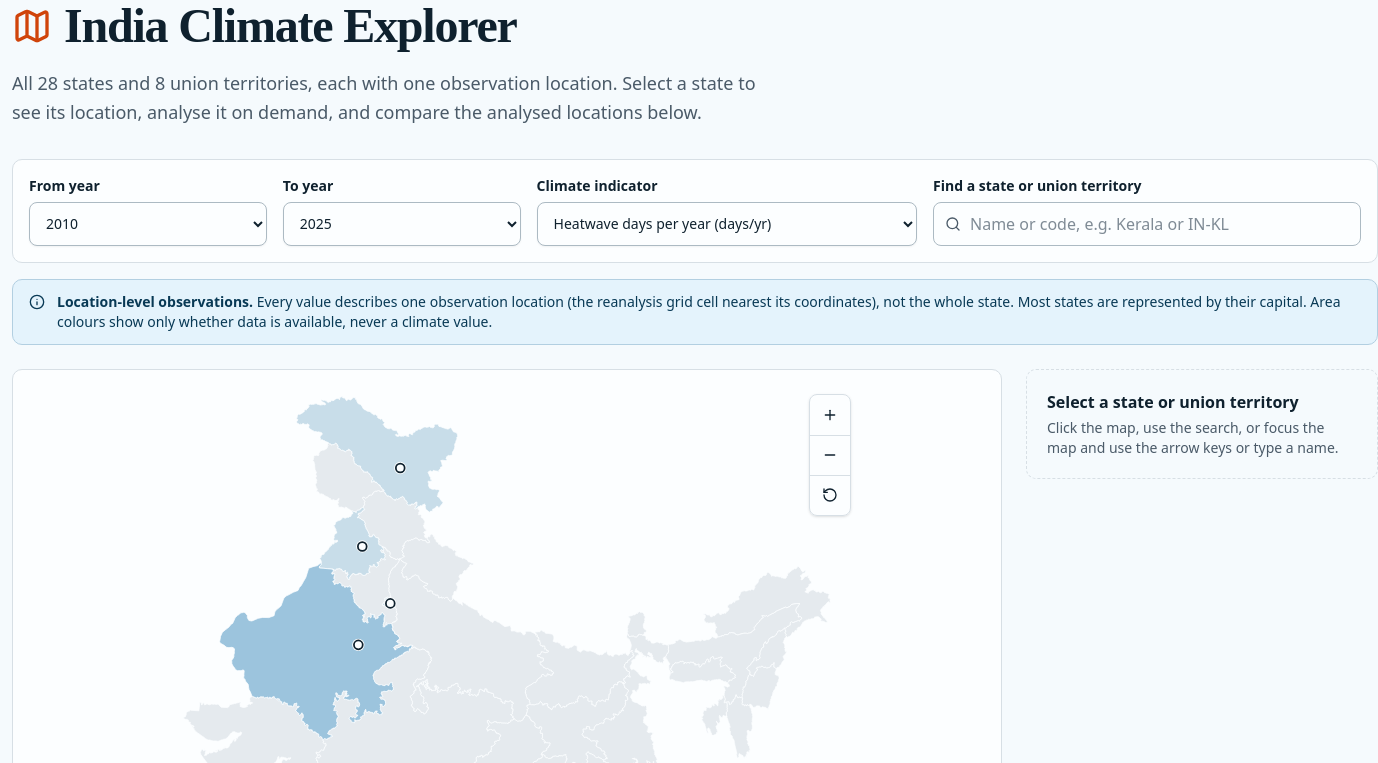
Test: India Climate Explorer › analyses on demand, then colours the marker and fills the summary
The image size is (1378, 763).
In the dropdown labelled "Find a state or union territory": (1147, 224) [933,202,1361,246], type "IN-RJ"
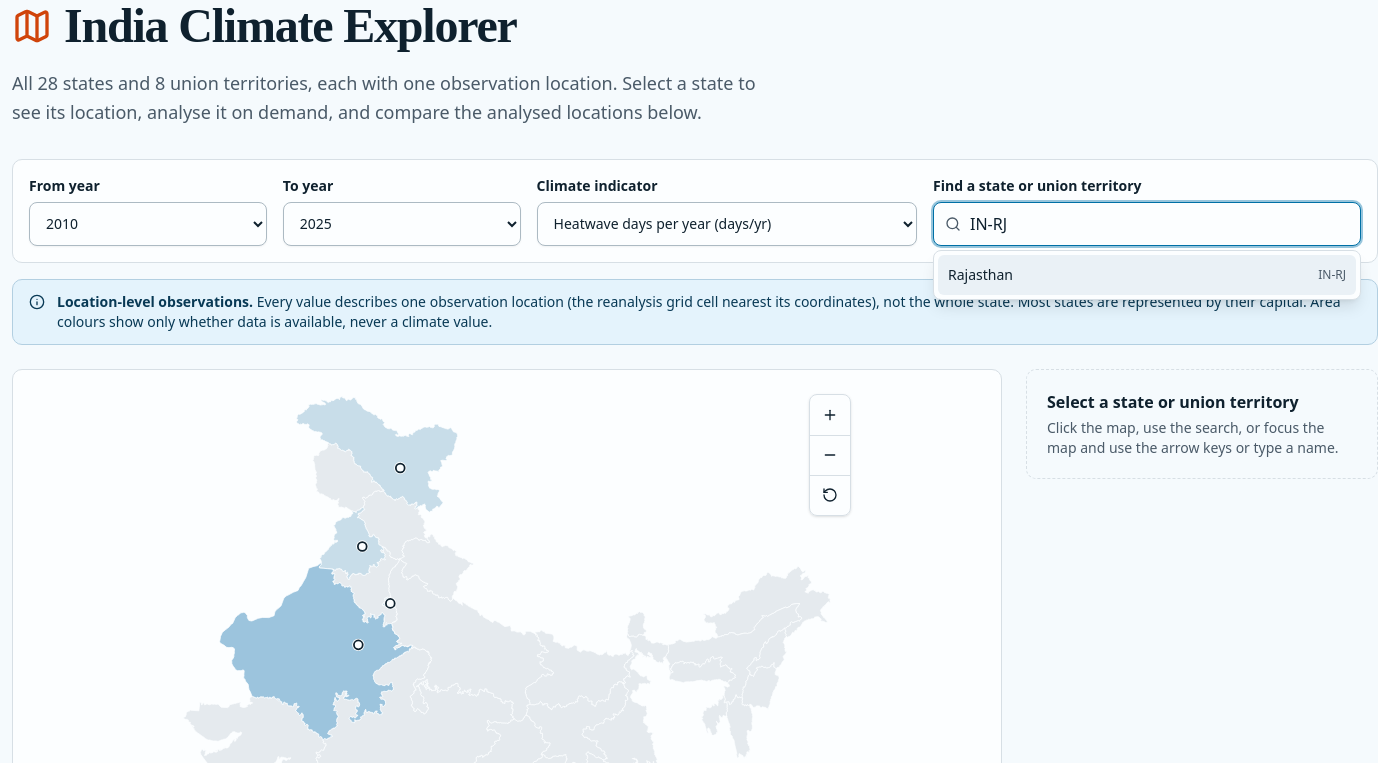
Click the text "Rajasthan": (980, 274) [948,264,1013,284]
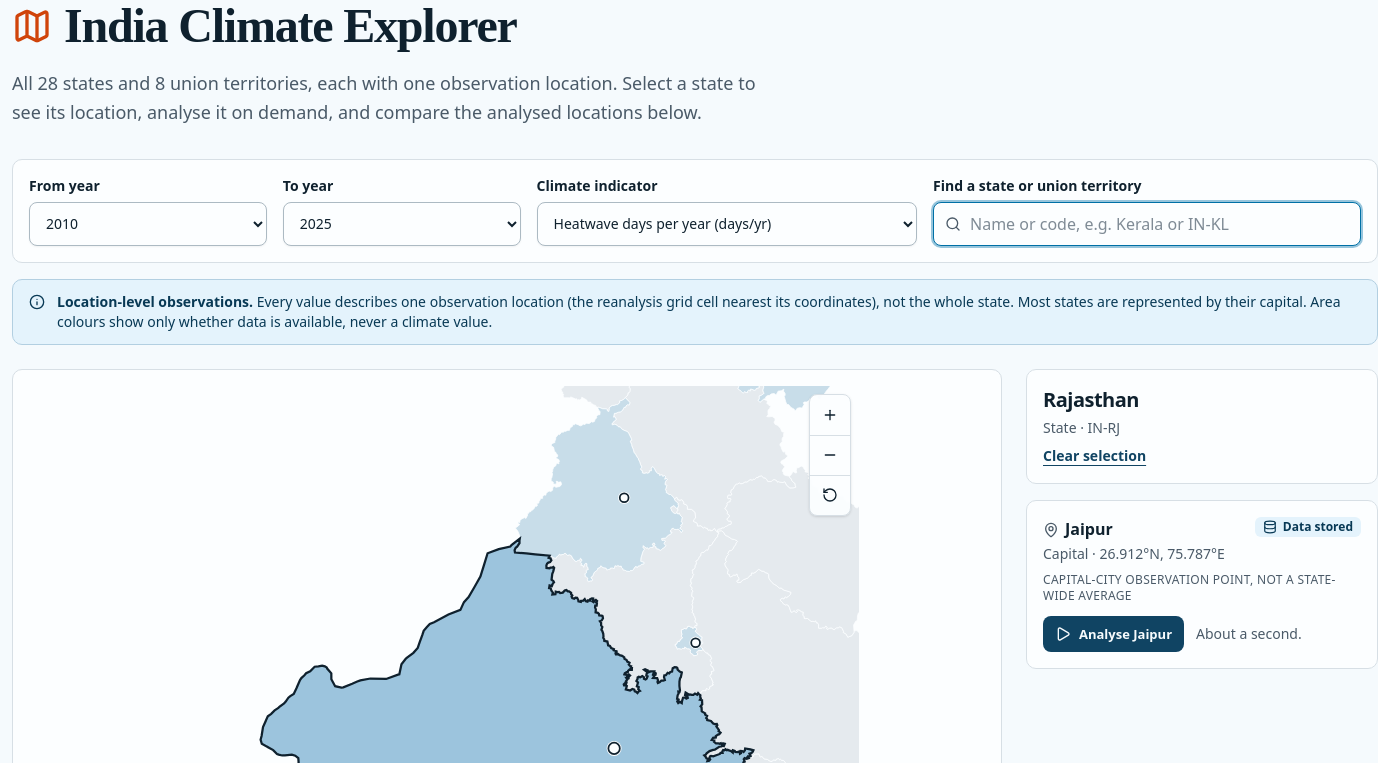
Click the button "Analyse Jaipur": (1114, 634) [1043,616,1184,652]
(page scrolled)
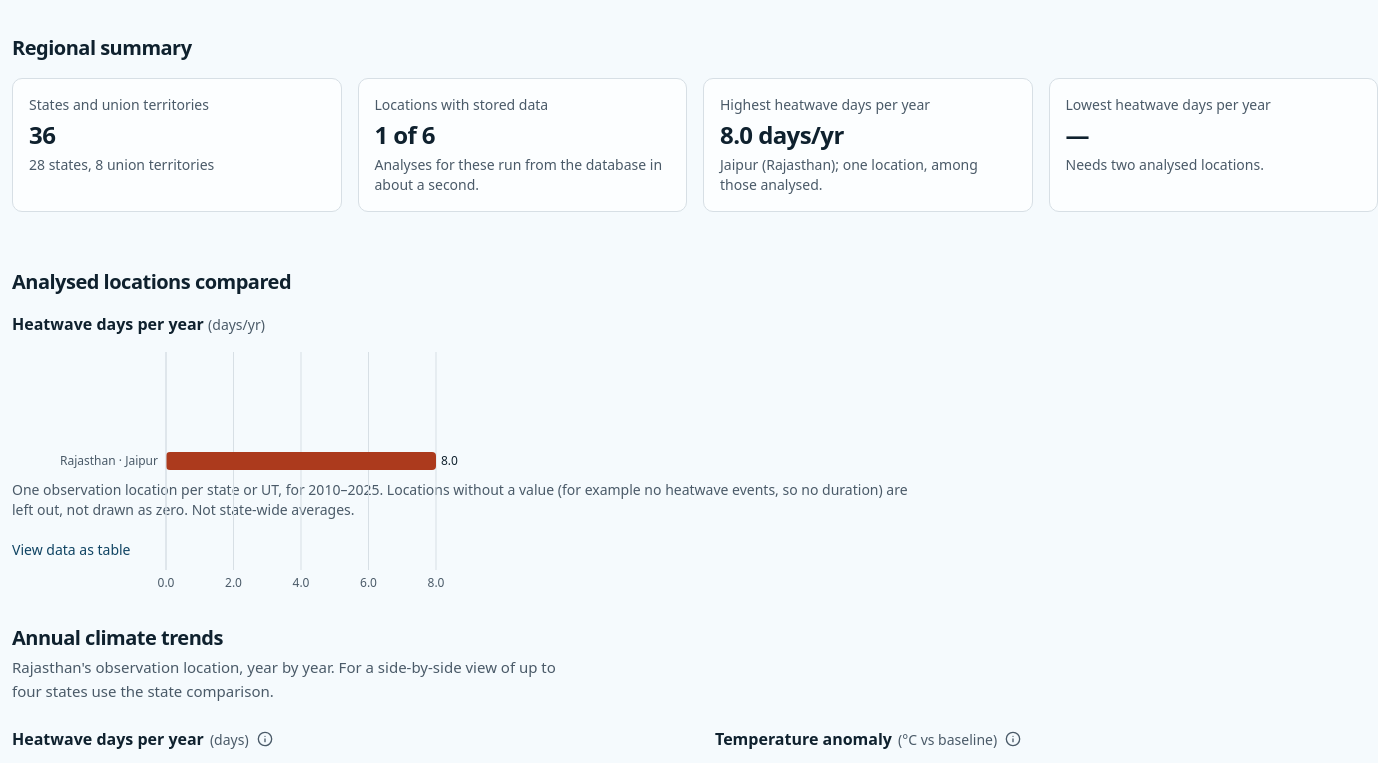
Expected: the element with test id "indicator-bar-chart" is shown, [12,312,908,568]
Expected: the text "Jaipur (Rajasthan); one location, among those analysed." is shown, [720,155,1016,195]
